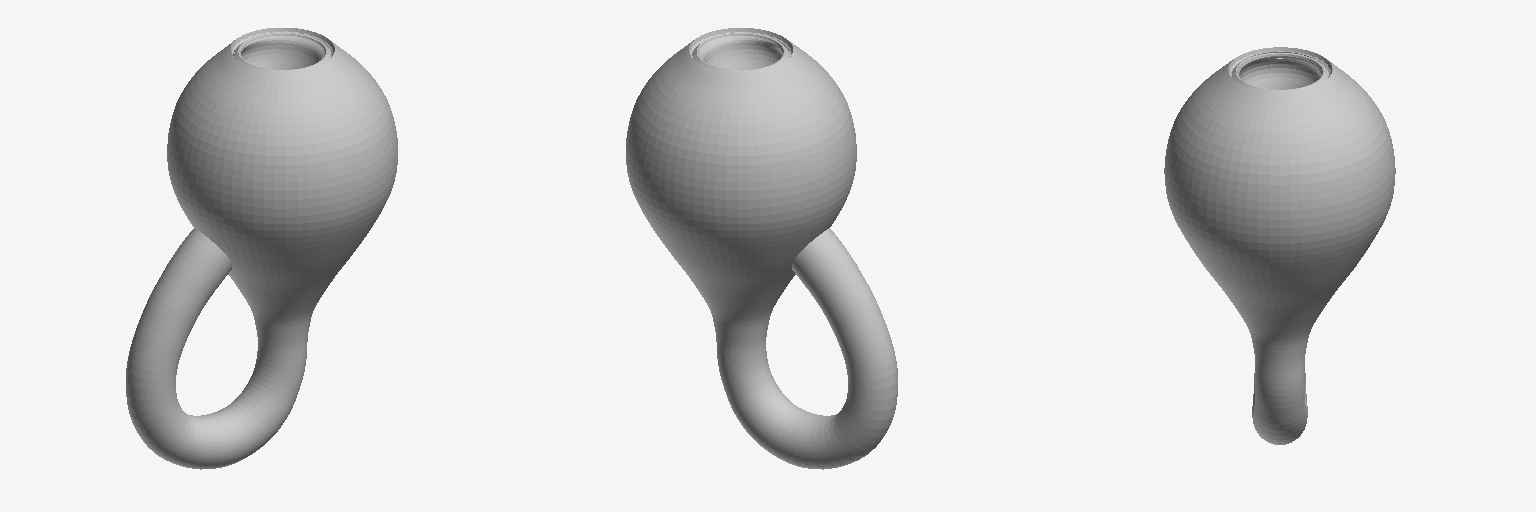
Rendered from klein_bottle.obj.
3 renders of one model, left to right at view 1: azimuth 30°, elevation 25°; view 2: azimuth 150°, elevation 25°; view 3: azimuth 270°, elevation 25°, orthographic.
Parts seen in each view (by area): view 1: Circle.002; view 2: Circle.002; view 3: Circle.002.
Part boxes in pixels (x1,y1,x2,y2): Circle.002: (126, 28, 397, 469); Circle.002: (626, 28, 897, 469); Circle.002: (1164, 47, 1395, 444).
Size of the model in its own units: 5.58 by 8.41 by 4.41.